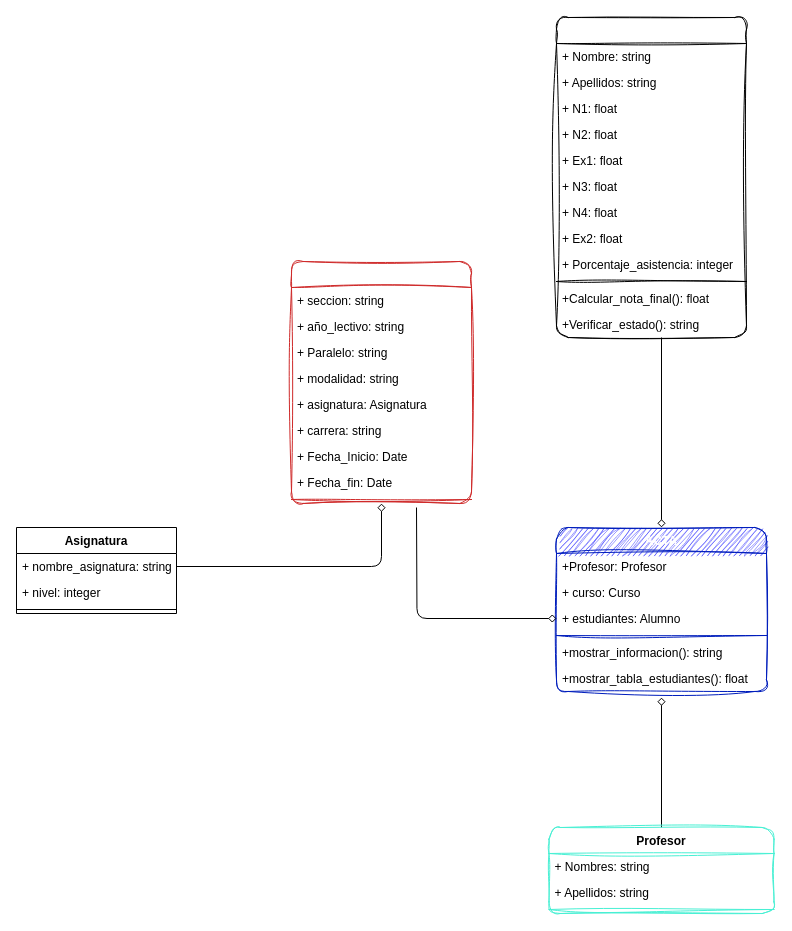
The diagram is 792 pixels wide and 931 high, and some of its shapes have lost their labels. The box of each missing label's shape, as (x1, y1, x2, y2) in pixels:
Alumno: (556, 16, 746, 338)
Curso: (290, 260, 472, 504)
